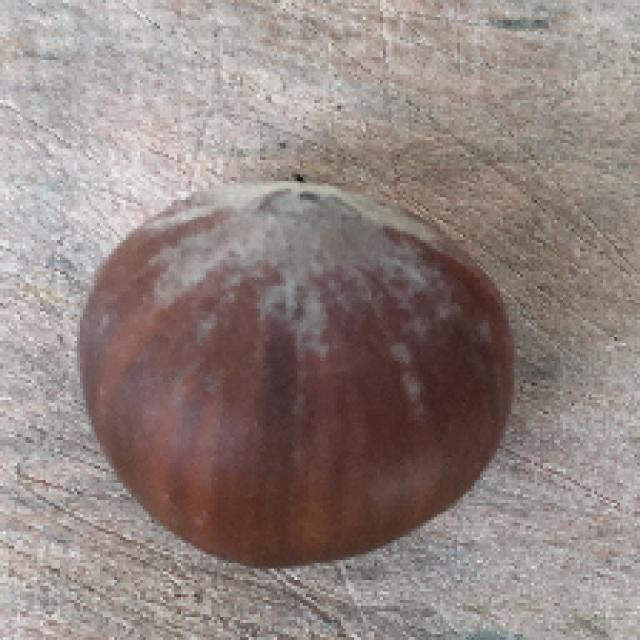damagedHazelnut: (63, 170, 526, 575)
